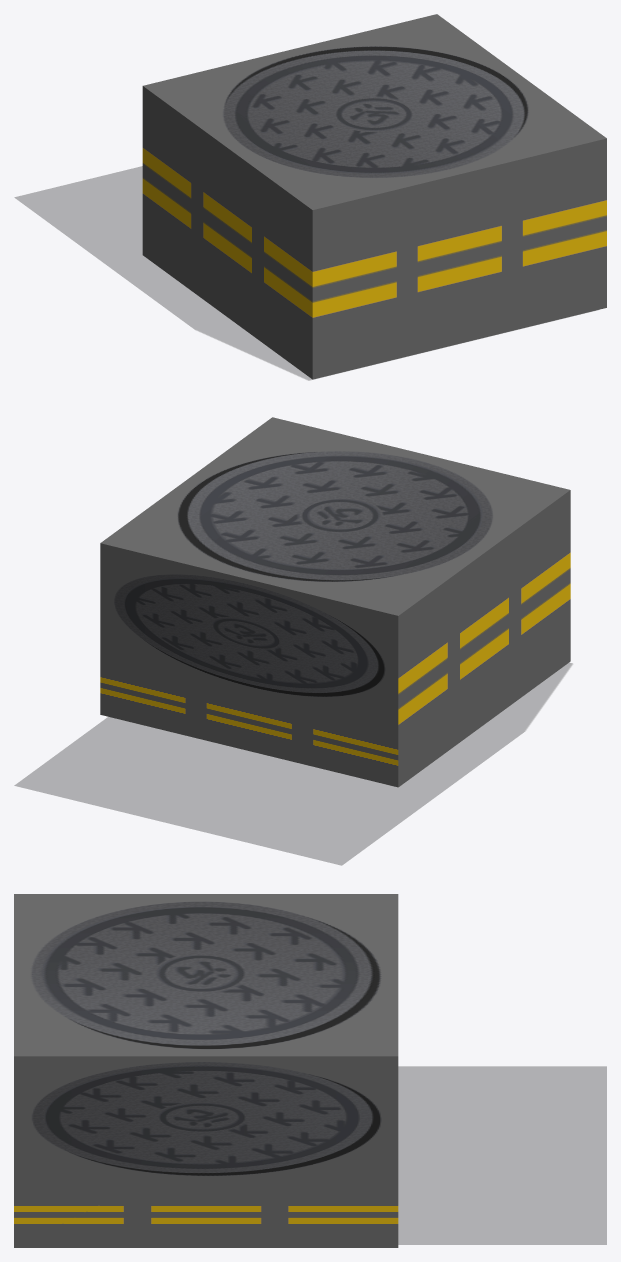
File: block_26.glb
3 views of the same model, one above another, from view 1: azimuth 30°, elevation 25°; view 2: azimuth 150°, elevation 25°; view 3: azimuth 270°, elevation 25° (orthographic). The views are drawn at different scales.
Visible parts, largest first — view 1: hitObj, block; view 2: hitObj, block; view 3: hitObj, block.
Part boxes in pixels (<box>): hitObj: <box>142,14,606,379</box>; block: <box>15,166,312,380</box>; hitObj: <box>100,417,570,787</box>; block: <box>14,663,572,865</box>; hitObj: <box>14,894,398,1247</box>; block: <box>398,1066,606,1244</box>.
Bounding box in the file's own units: 11.24 × 5.53 × 15.43.
Materials: 2 (2 with a texture image).
